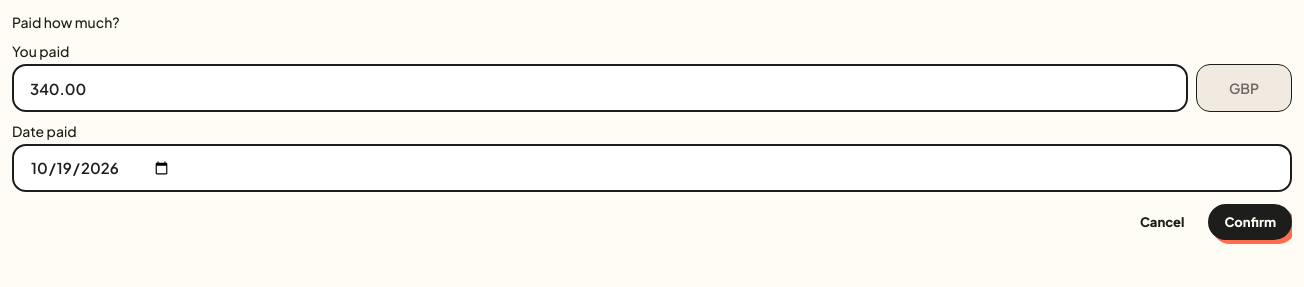
Test case: PaidConfirm › surfaces a server date field error on the field
The width and height of the screenshot is (1304, 287).
Click the button "Confirm" at (1250, 222), box x1=1208 y1=204 x2=1292 y2=240
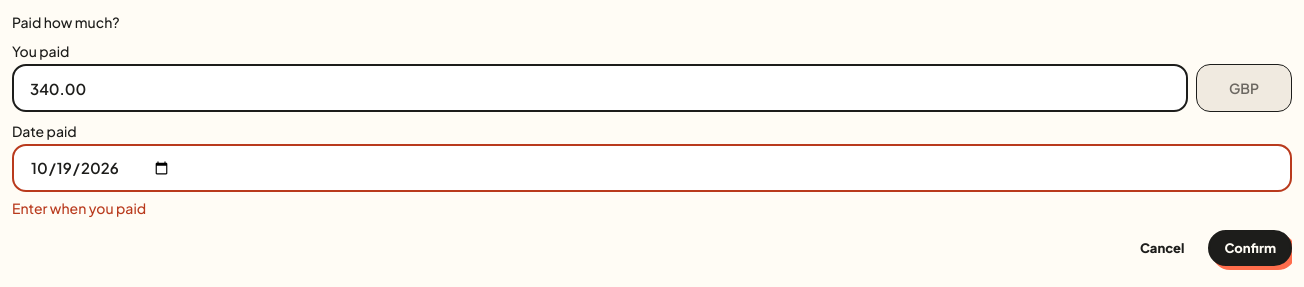
Check: the text "Enter when you paid" is shown, box x1=12 y1=199 x2=146 y2=217
